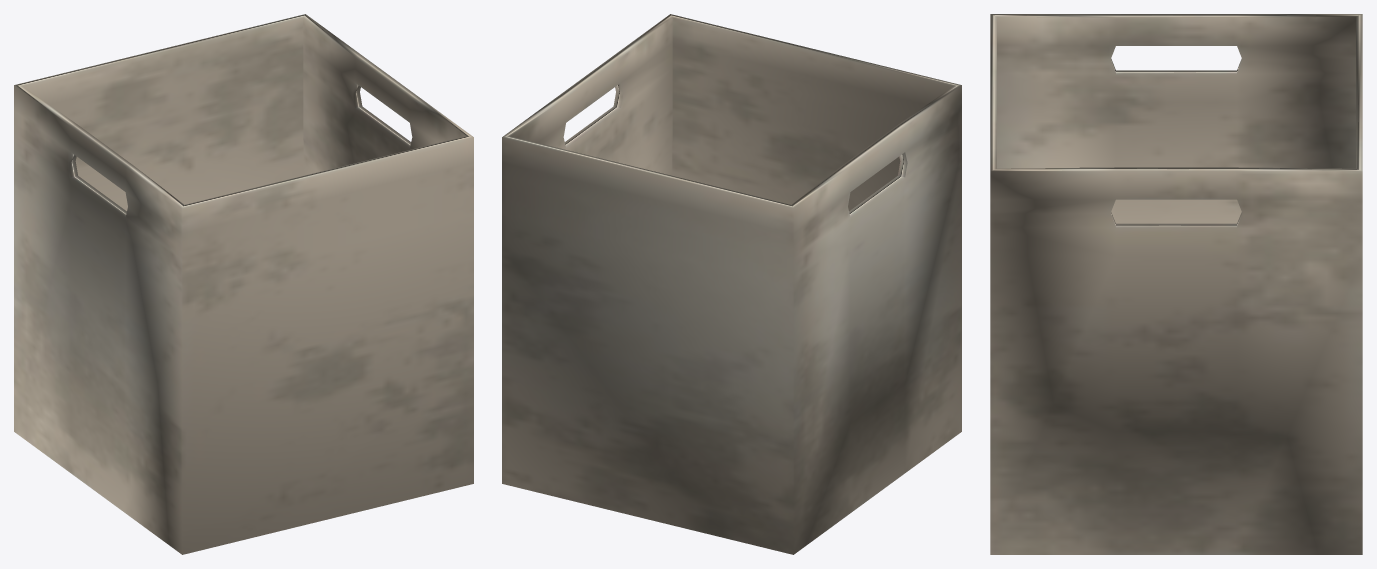
The picture shows the model from 3 angles, left to right: view 1: azimuth 30°, elevation 25°; view 2: azimuth 150°, elevation 25°; view 3: azimuth 270°, elevation 25°; orthographic projection. The views are drawn at different scales.
Parts seen in each view (by area): view 1: Box L.Shape; view 2: Box L.Shape; view 3: Box L.Shape.
Part boxes in pixels (<box>): Box L.Shape: <box>14,14,473,554</box>; Box L.Shape: <box>502,14,961,554</box>; Box L.Shape: <box>990,14,1362,554</box>.
Size of the model in its own units: 36.71 by 41.71 by 36.71.
Materials: 1 (1 with a texture image).
